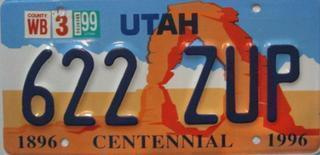placa de veiculo: (7, 0, 317, 152)
